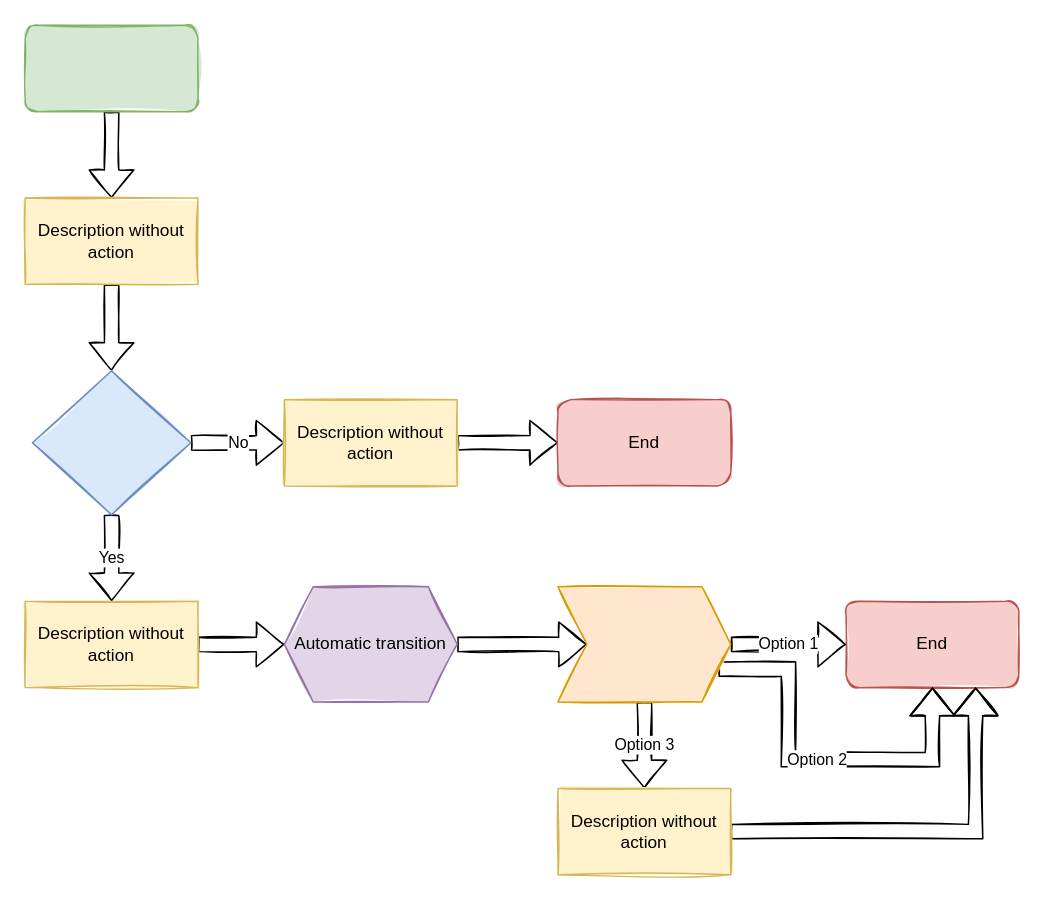
Some shapes in this 1044 by 900 pixel diagram are drawn without their labels. Each missing label, with the centre of its shape:
"- Option 1 - Option 2 - Option 3" belongs at [644,643].
"Decision to me made" belongs at [111,442].
"Start" belongs at [111,68].
